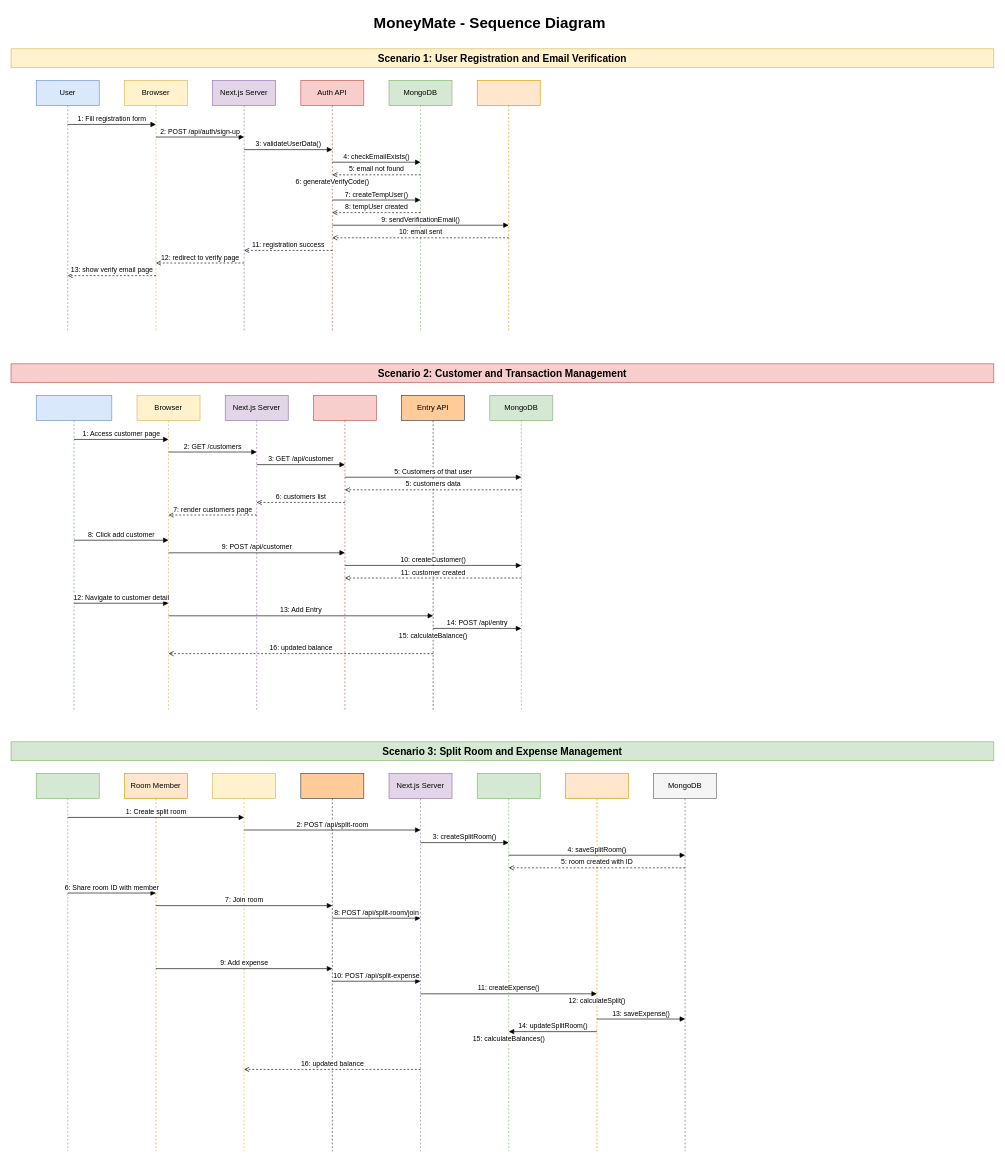
Some shapes in this 1005 by 1162 pixel diagram are drawn without their labels. The box of each missing label's shape, as (x1, y1, x2, y2) in pixels:
Authenticated User: (36, 395, 112, 710)
Creator Browser: (212, 773, 276, 1151)
Customer API: (313, 395, 376, 710)
Email Service: (477, 80, 540, 332)
Expense API: (565, 773, 628, 1151)
Member Browser: (300, 773, 364, 1151)
Room Creator: (36, 773, 99, 1151)
SplitRoom API: (477, 773, 540, 1151)
